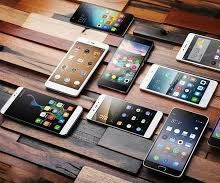mobil: (141, 106, 209, 179), (0, 85, 83, 137), (42, 35, 109, 98), (138, 63, 218, 109), (96, 32, 154, 94), (85, 92, 162, 138), (69, 1, 134, 36), (175, 32, 220, 70)
